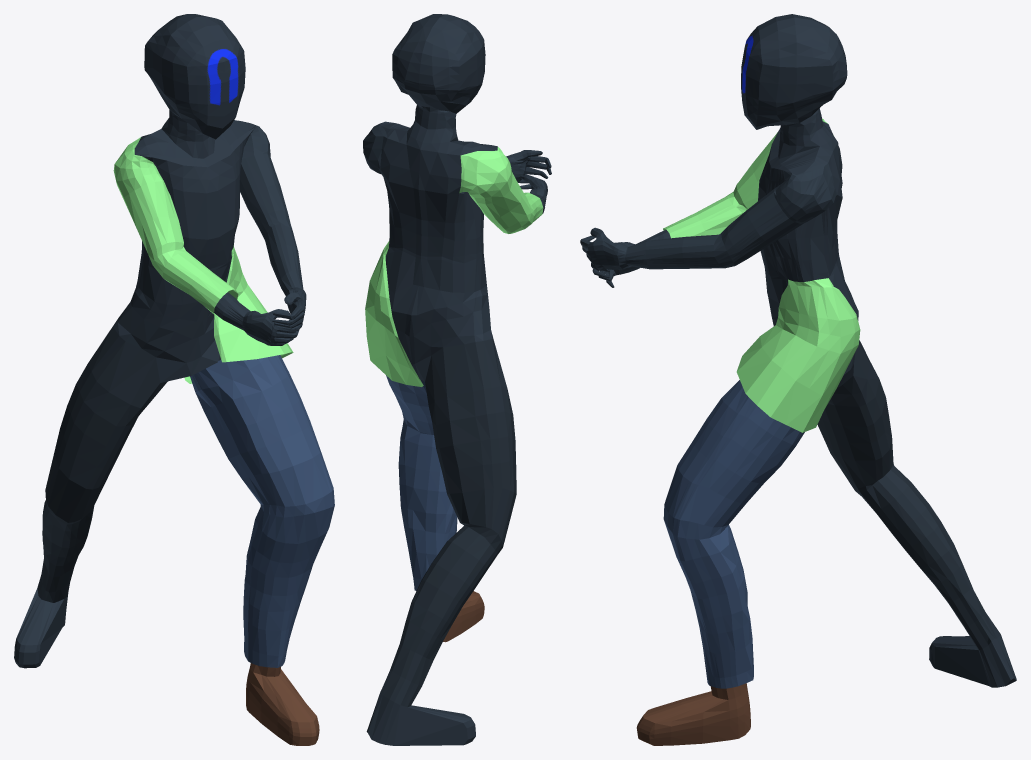
File: Mar_WB_000003.obj
The picture shows the model from 3 angles, left to right: view 1: azimuth 30°, elevation 25°; view 2: azimuth 150°, elevation 25°; view 3: azimuth 270°, elevation 25°; orthographic projection. The views are drawn at different scales.
Parts seen in each view (by area): view 1: Cube.000_Cube.001; view 2: Cube.000_Cube.001; view 3: Cube.000_Cube.001.
Boxes of the visible parts, x1,y1,x2,y2 form: Cube.000_Cube.001: [14, 14, 334, 745]; Cube.000_Cube.001: [363, 14, 551, 745]; Cube.000_Cube.001: [580, 14, 1016, 745].
Size of the model in its own units: 1.1 by 3.71 by 2.09.
